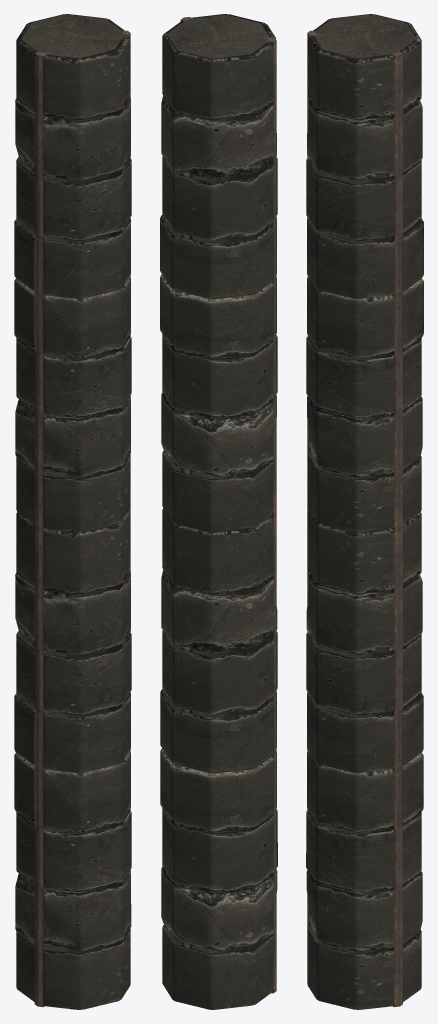
3 renders of one model, left to right at view 1: azimuth 30°, elevation 25°; view 2: azimuth 150°, elevation 25°; view 3: azimuth 330°, elevation 25°, orthographic.
Visible parts, largest first — view 1: SM_BB_T3_Extended_Beam_Thin_Large_Vertical_02_LOD0; view 2: SM_BB_T3_Extended_Beam_Thin_Large_Vertical_02_LOD0; view 3: SM_BB_T3_Extended_Beam_Thin_Large_Vertical_02_LOD0.
Part boxes in pixels (x1,y1,x2,y2): SM_BB_T3_Extended_Beam_Thin_Large_Vertical_02_LOD0: [14, 14, 131, 1009]; SM_BB_T3_Extended_Beam_Thin_Large_Vertical_02_LOD0: [160, 14, 277, 1009]; SM_BB_T3_Extended_Beam_Thin_Large_Vertical_02_LOD0: [306, 14, 423, 1009].
Size of the model in its own units: 0.3183 by 3 by 0.3229.
2 materials, 2 textured.
